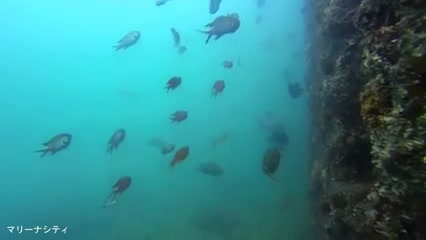mezina: (34, 129, 83, 167), (198, 12, 244, 45), (106, 173, 142, 205), (103, 127, 130, 159), (112, 28, 144, 54), (162, 72, 187, 96)
